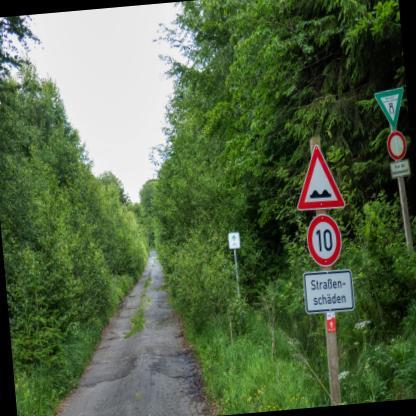road_sign: (297, 140, 343, 208), (308, 214, 341, 267), (388, 130, 407, 159)
